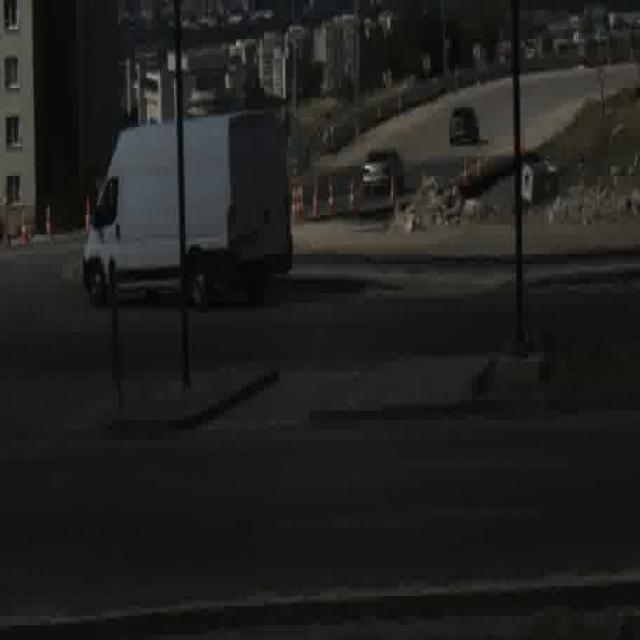Car: (84, 110, 289, 309), (360, 146, 407, 196), (448, 106, 480, 142)
